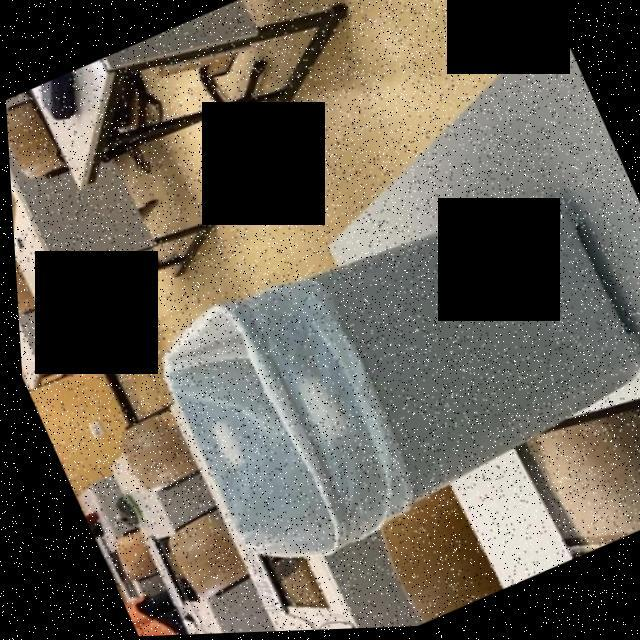bin: (62, 127, 640, 631)
